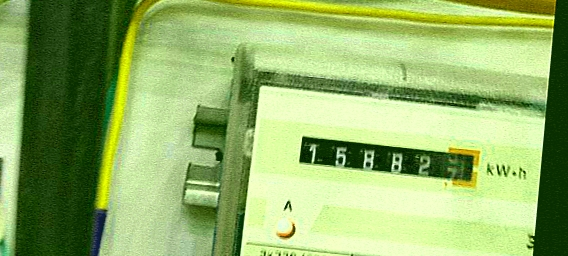1: (304, 140, 320, 163)
2: (414, 152, 432, 177)
5: (332, 142, 348, 168)
7: (444, 161, 457, 179)
8: (387, 149, 403, 174), (359, 147, 374, 171)
screen: (287, 124, 488, 197)
